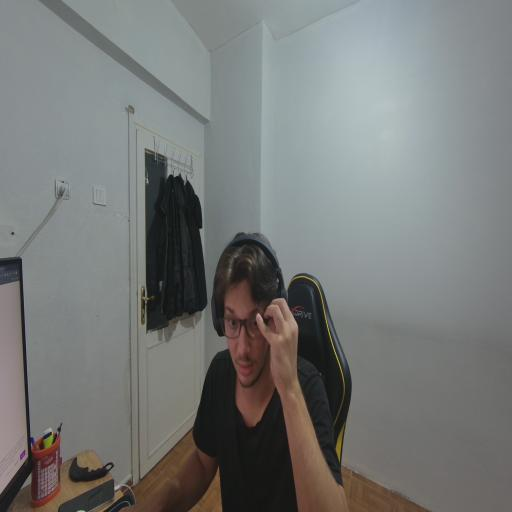cuma-face-v2: (216, 196, 312, 423)
